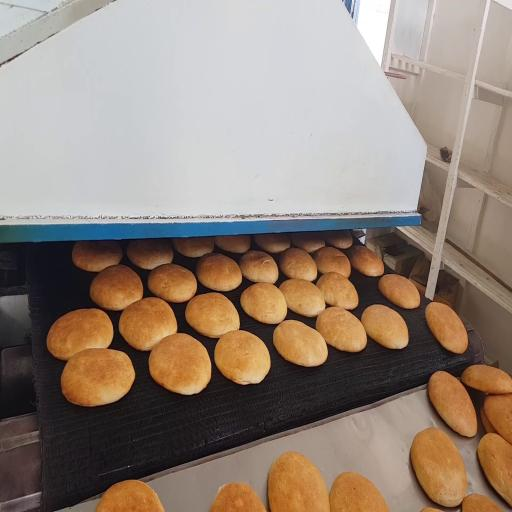bread: (411, 428, 467, 506), (61, 349, 135, 406), (149, 334, 211, 394), (268, 452, 329, 511), (47, 309, 113, 360), (428, 371, 477, 437), (119, 298, 177, 350), (215, 330, 270, 384), (274, 320, 327, 366), (186, 293, 239, 338), (90, 265, 143, 310), (478, 434, 511, 506), (330, 472, 389, 511), (316, 307, 366, 352), (426, 302, 468, 354), (95, 480, 164, 511), (361, 305, 408, 348), (240, 283, 287, 324), (148, 264, 197, 302), (280, 279, 325, 317), (196, 254, 242, 291), (210, 483, 266, 511), (316, 273, 358, 310), (72, 241, 122, 272), (127, 239, 173, 270), (462, 365, 511, 394), (379, 275, 420, 309), (484, 394, 511, 443), (279, 248, 317, 281), (239, 251, 278, 283), (315, 247, 350, 277), (350, 246, 384, 276), (173, 237, 214, 257), (254, 233, 290, 254), (290, 232, 325, 253), (462, 494, 502, 511), (215, 235, 250, 254), (324, 230, 352, 249), (480, 405, 496, 433), (421, 507, 441, 511)
